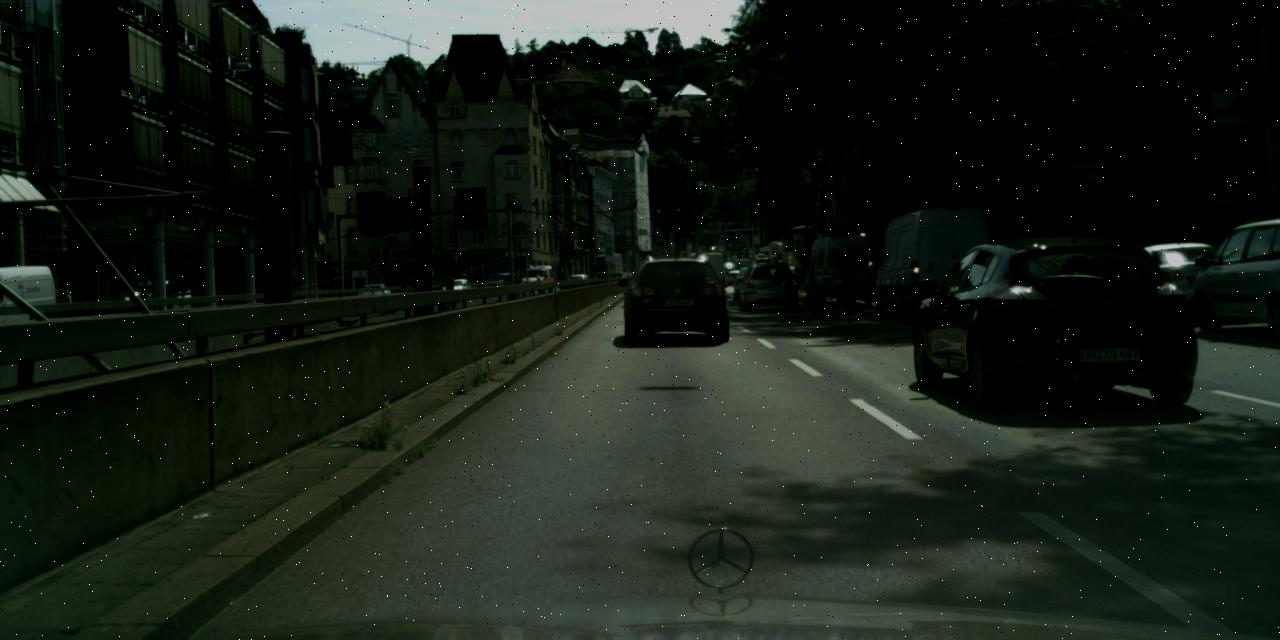ped: (60, 289, 73, 322), (317, 280, 328, 308), (330, 276, 340, 306), (534, 274, 542, 294), (558, 270, 563, 284)
